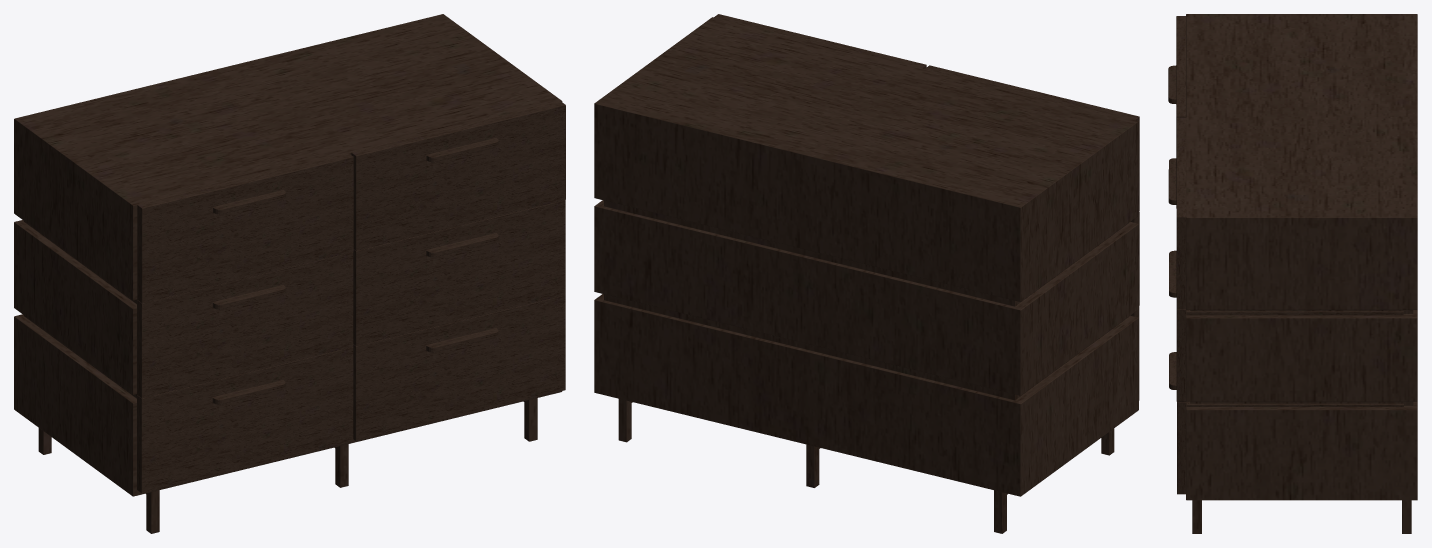
File: spintele.glb
3 views of the same model, side by side, from view 1: azimuth 30°, elevation 25°; view 2: azimuth 150°, elevation 25°; view 3: azimuth 270°, elevation 25° (orthographic). The views are drawn at different scales.
Parts seen in each view (by area): view 1: Spintele, Drawer1, Drawer2, Drawer5, Drawer3, Drawer4, Drawer6; view 2: Spintele, Drawer1, Drawer2; view 3: Spintele, Drawer4, Drawer2, Drawer6, Drawer1.
Part boxes in pixels (x1,y1,x2,y2): Spintele: (14,14,562,533); Drawer1: (137,153,353,303); Drawer2: (351,101,565,250); Drawer5: (137,347,353,493); Drawer3: (137,252,353,398); Drawer4: (353,200,565,345); Drawer6: (353,295,565,441); Spintele: (594,17,1138,533); Drawer1: (925,65,1139,210); Drawer2: (714,14,926,68); Spintele: (1186,14,1417,533); Drawer4: (1169,259,1403,401); Drawer2: (1168,117,1186,309); Drawer6: (1169,352,1403,494); Drawer1: (1168,16,1185,208).
Bounding box in the file's own units: 1 × 0.748 × 0.5167.
1 material, 1 textured.
